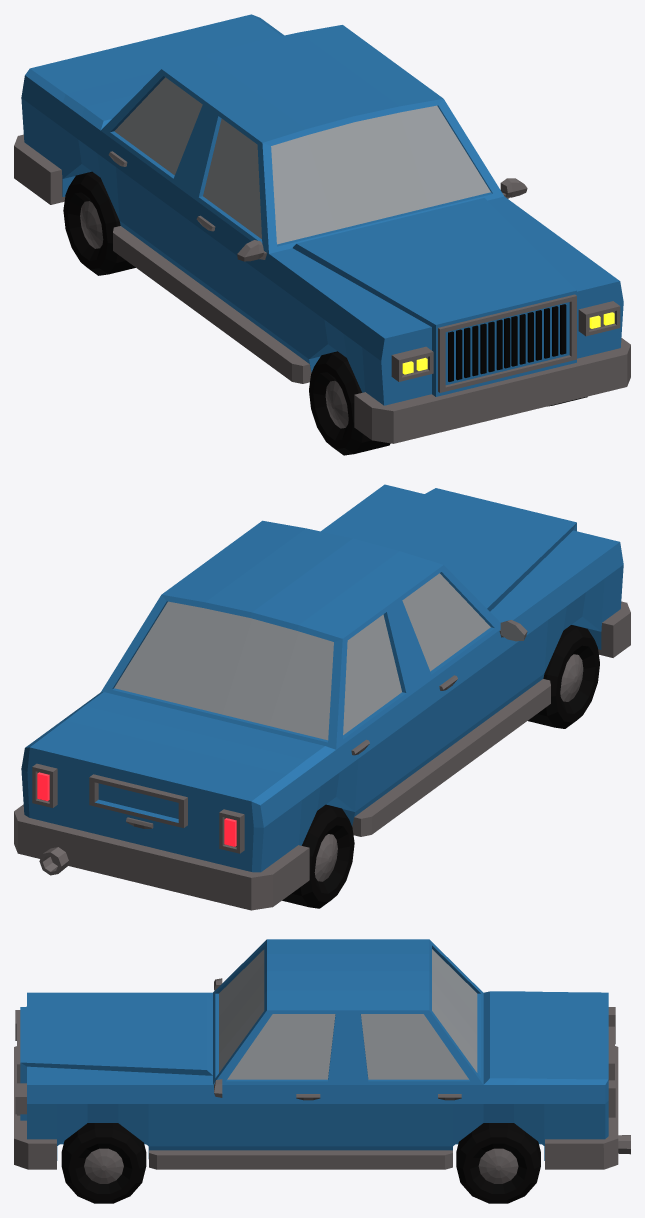
File: SimpleCar.fbx
3 views of the same model, one above another, from view 1: azimuth 30°, elevation 25°; view 2: azimuth 150°, elevation 25°; view 3: azimuth 270°, elevation 25° (orthographic). The views are drawn at different scales.
Visible parts, largest first — view 1: body, top, grid, rearRightWheel, frontRightWheel, frame, lights, frames, mirrors; view 2: body, top, frontRightWheel, rearRightWheel, lights.001, frames.001, tailPipe; view 3: body, top, frontLeftWheel, rearLeftWheel.
Boxes of the visible parts, left/top/right/bottom form: body: left=14, top=14, right=630, bottom=443; top: left=101, top=25, right=504, bottom=253; grid: left=448, top=304, right=566, bottom=381; rearRightWheel: left=63, top=171, right=135, bottom=275; frontRightWheel: left=309, top=351, right=390, bottom=455; frame: left=438, top=294, right=576, bottom=392; lights: left=391, top=301, right=617, bottom=380; frames: left=397, top=305, right=620, bottom=381; mirrors: left=237, top=178, right=527, bottom=261; body: left=14, top=484, right=630, bottom=910; top: left=101, top=520, right=500, bottom=749; frontRightWheel: left=528, top=625, right=599, bottom=728; rearRightWheel: left=282, top=804, right=354, bottom=908; lights.001: left=32, top=765, right=241, bottom=853; frames.001: left=34, top=763, right=244, bottom=851; tailPipe: left=39, top=847, right=68, bottom=875; body: left=14, top=991, right=618, bottom=1169; top: left=213, top=939, right=483, bottom=1084; frontLeftWheel: left=61, top=1123, right=146, bottom=1203; rearLeftWheel: left=456, top=1123, right=540, bottom=1203.
Size of the model in its own units: 415 by 320 by 960.
